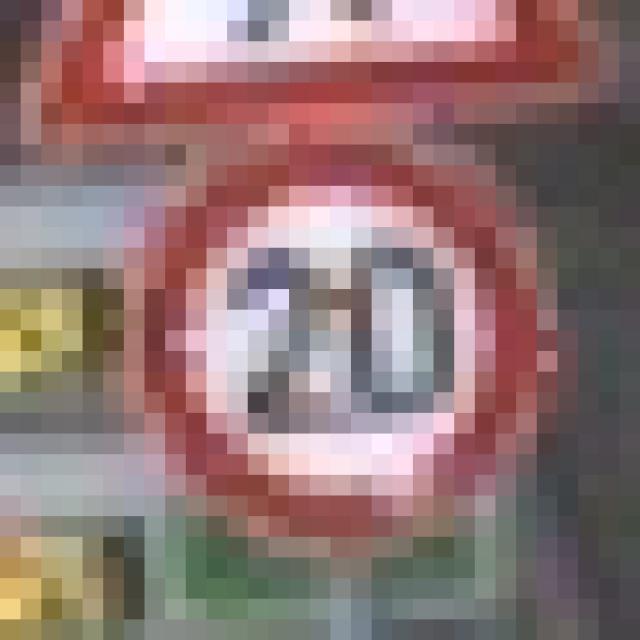Speed Limit -20-: (124, 124, 537, 537)
